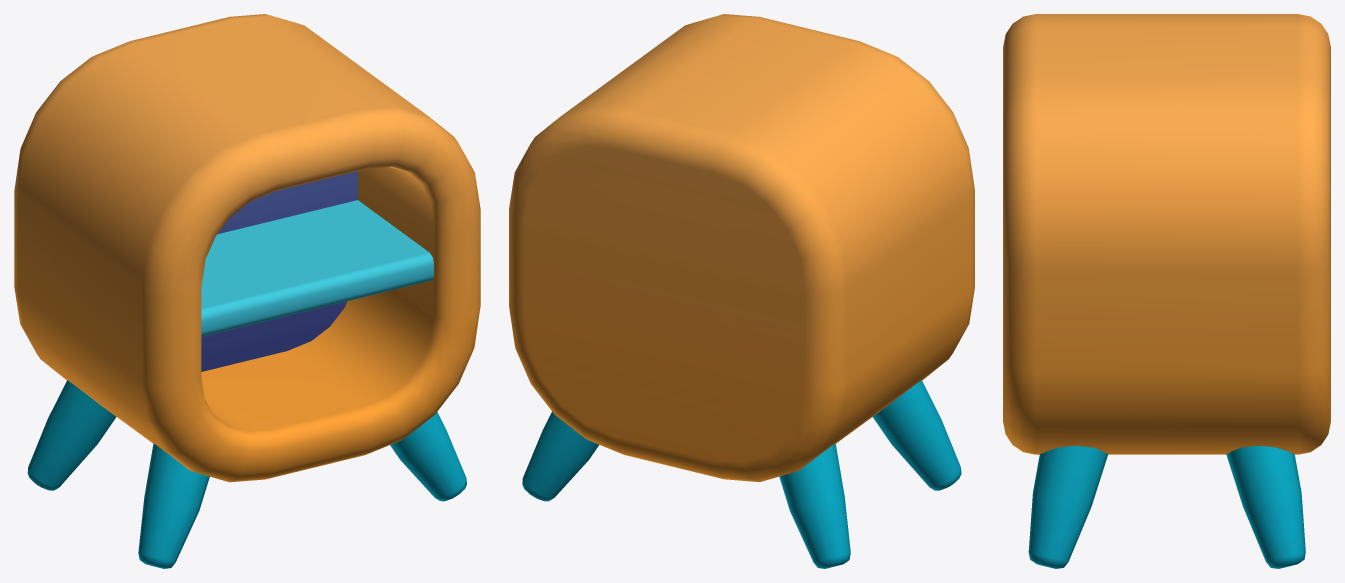
The model's file is Nightstand_17.glb.
3 renders of one model, left to right at view 1: azimuth 30°, elevation 25°; view 2: azimuth 150°, elevation 25°; view 3: azimuth 270°, elevation 25°, orthographic. The views are drawn at different scales.
Visible parts, largest first — view 1: Nightstand_17; view 2: Nightstand_17; view 3: Nightstand_17.
Part boxes in pixels (bbox=[...]): Nightstand_17: bbox=[14, 14, 480, 568]; Nightstand_17: bbox=[509, 14, 974, 568]; Nightstand_17: bbox=[1003, 14, 1330, 568].
Bounding box in the file's own units: 0.5 × 0.5954 × 0.4.
Materials: 1 (1 with a texture image).
